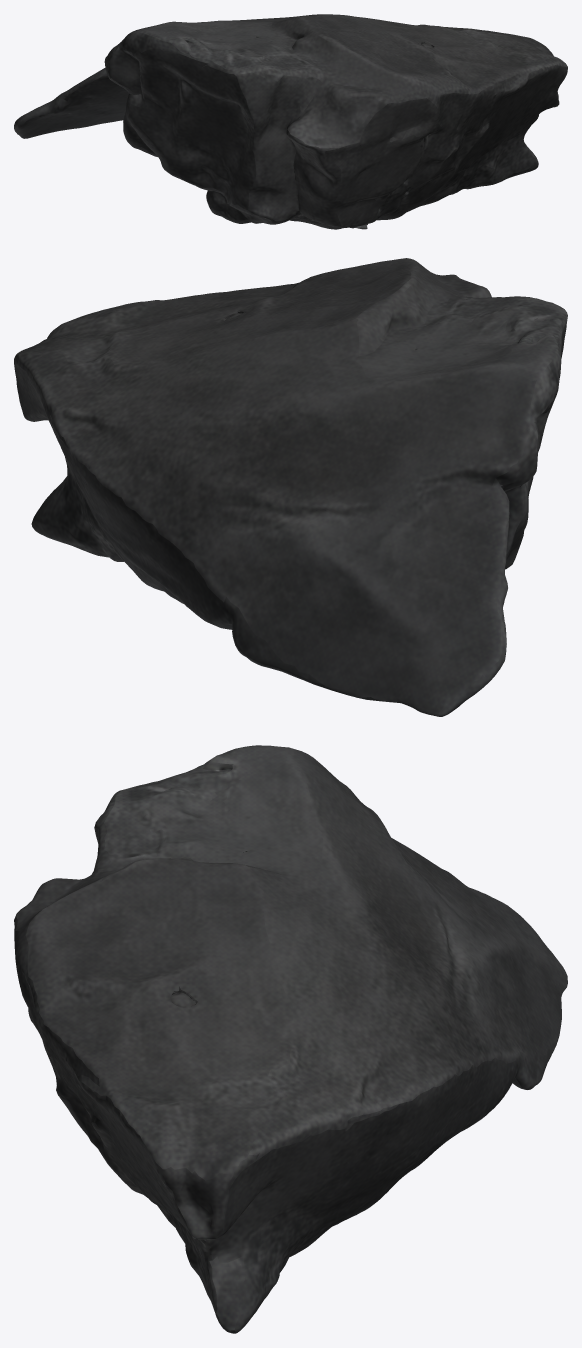
3 views of the same model, one above another, from view 1: azimuth 30°, elevation 25°; view 2: azimuth 150°, elevation 25°; view 3: azimuth 270°, elevation 25° (orthographic). The views are drawn at different scales.
Parts seen in each view (by area): view 1: world; view 2: world; view 3: world.
Boxes of the visible parts, left/top/right/bottom form: world: left=14, top=14, right=567, bottom=229; world: left=14, top=258, right=567, bottom=716; world: left=14, top=745, right=567, bottom=1333.
Size of the model in its own units: 1.2 by 0.5781 by 0.8922.
1 material, 1 textured.
